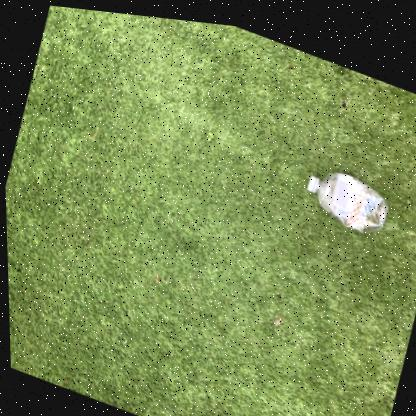Plastic: (305, 165, 386, 224)
